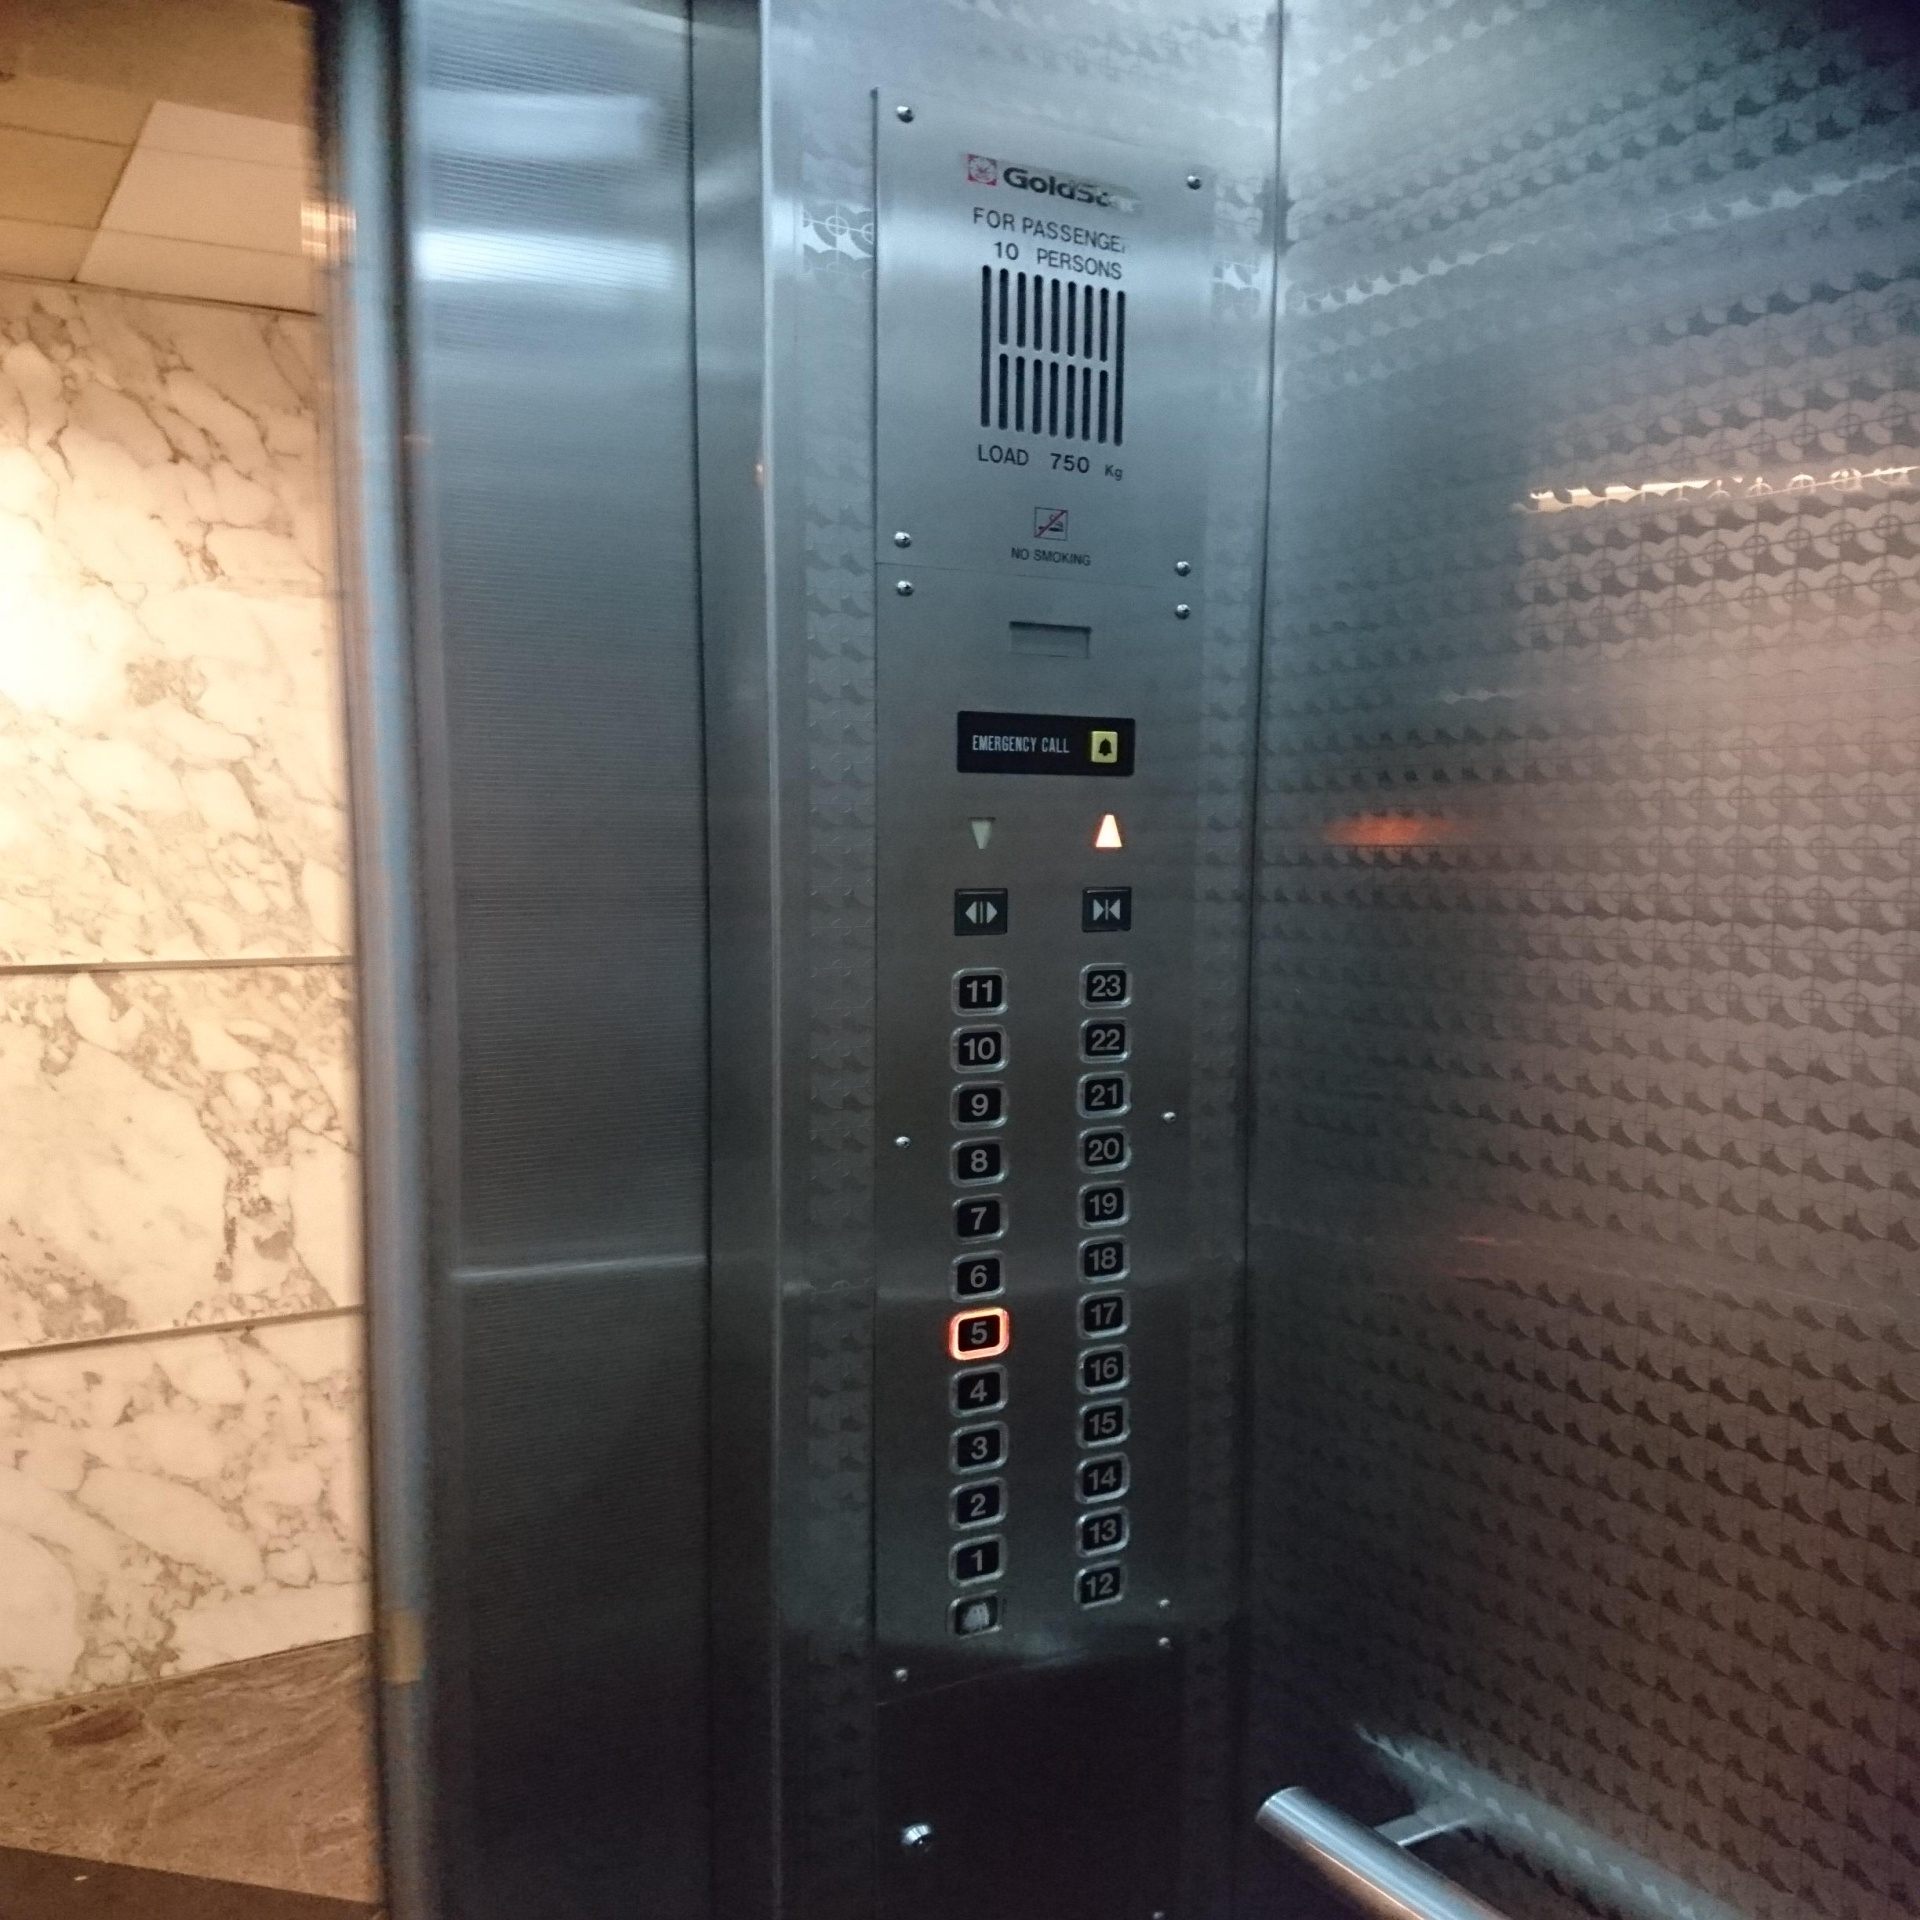1: (948, 1533, 1006, 1584)
10: (949, 1023, 1009, 1073)
11: (951, 967, 1009, 1018)
12: (1074, 1560, 1127, 1612)
13: (1074, 1507, 1129, 1558)
14: (1074, 1452, 1131, 1503)
15: (1076, 1398, 1131, 1449)
16: (1076, 1343, 1129, 1394)
17: (1076, 1289, 1131, 1338)
18: (1078, 1234, 1131, 1284)
19: (1076, 1180, 1129, 1229)
2: (948, 1477, 1007, 1531)
20: (1078, 1125, 1131, 1173)
21: (1078, 1071, 1131, 1118)
22: (1078, 1016, 1132, 1064)
23: (1080, 962, 1132, 1009)
3: (949, 1421, 1009, 1473)
4: (951, 1364, 1007, 1414)
5: (951, 1306, 1009, 1361)
6: (949, 1250, 1006, 1301)
7: (951, 1194, 1009, 1243)
8: (949, 1136, 1007, 1187)
9: (951, 1081, 1007, 1131)
alarm: (1092, 730, 1118, 763)
blur: (948, 1589, 1006, 1642)
close: (1080, 884, 1134, 934)
keyhole: (897, 1816, 941, 1860)
open: (951, 886, 1009, 937)
